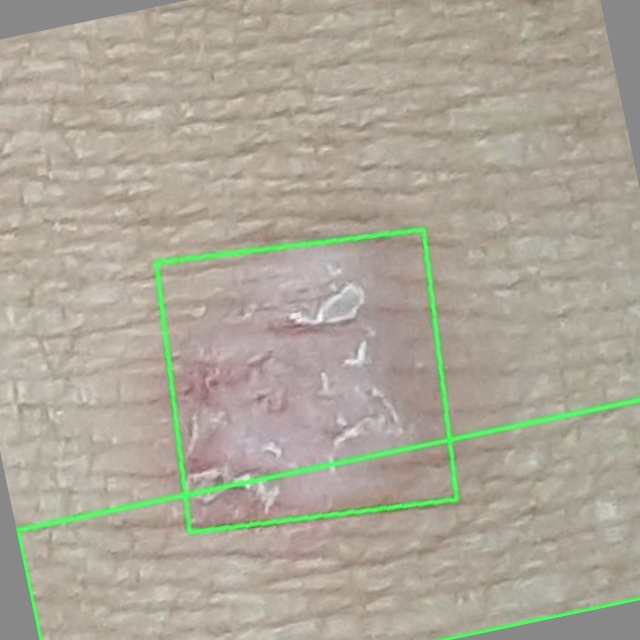Contact Dermatitis: (17, 399, 639, 639), (156, 230, 456, 532)
